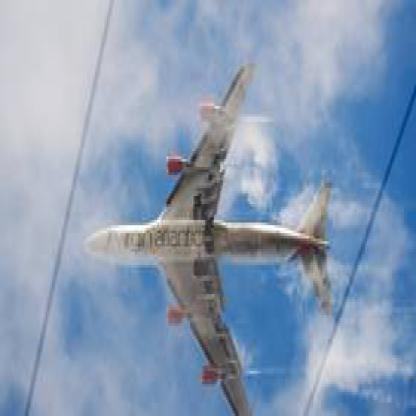CIV_Plane: (67, 58, 342, 414)
